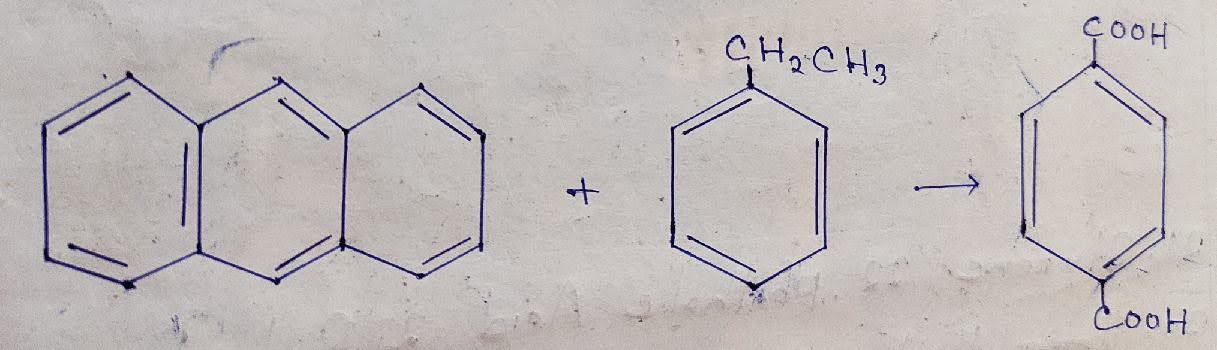Anthracene(C14H10): (35, 67, 492, 292)
Ethylbenzene(C8H10): (664, 31, 888, 295)
Terephthalic Acid(C8H6O4): (1014, 11, 1196, 339)
